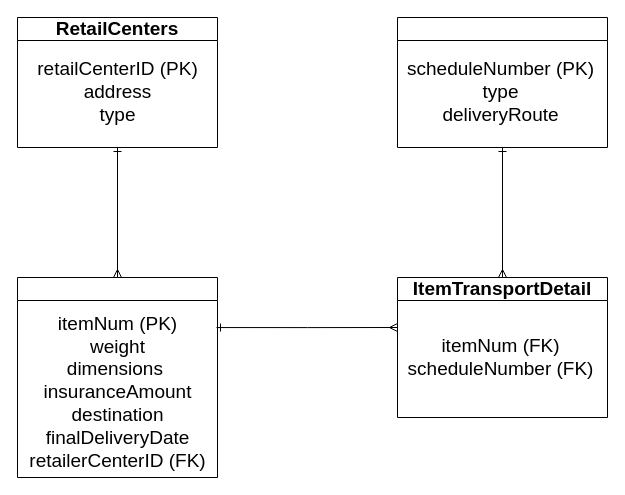
The diagram is 625 pixels wide and 495 high, and some of its shapes have lost their labels. Each missing label, with the box of its shape:
ShippedItems: (16, 276, 218, 478)
TransportationEvents: (396, 16, 608, 148)
